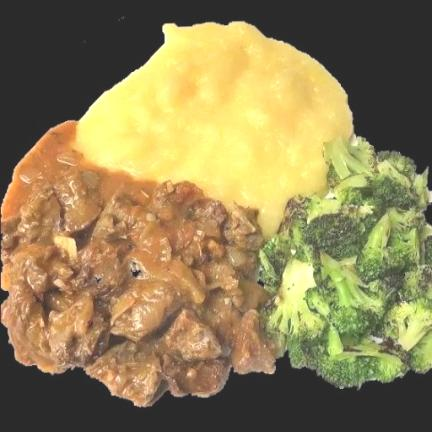broccoli: (260, 138, 431, 387)
meat: (1, 122, 275, 406)
potato: (75, 22, 353, 236)
